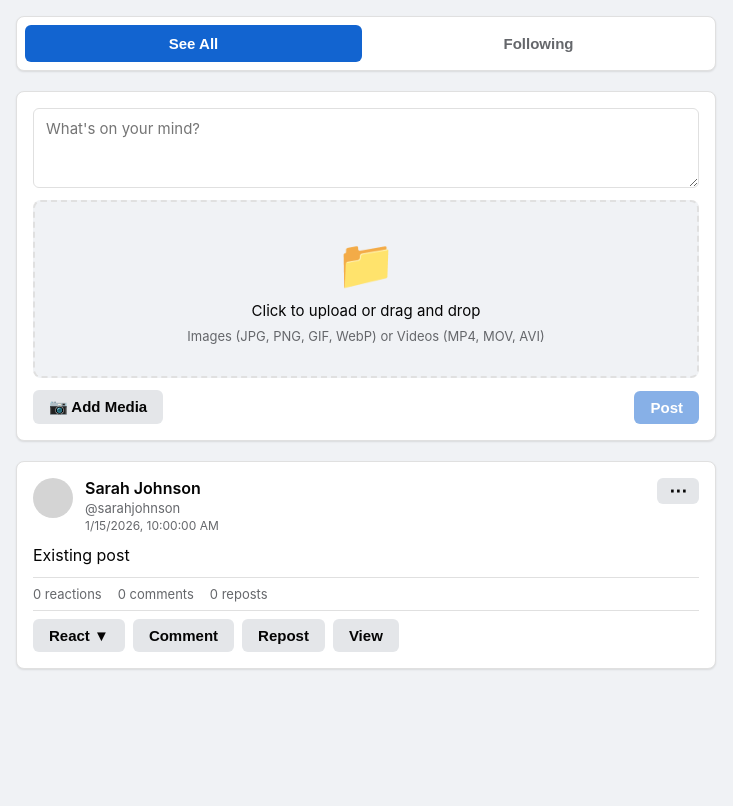
Feed Page › adds a newly created post to the top of the feed
The image size is (733, 806).
expect the text "Existing post" is shown: met, box 33,545 -> 130,565
Type "Brand new post" into the text box with placeholder "What's on your mind?" at x=366, y=148, box 33,108 -> 699,188
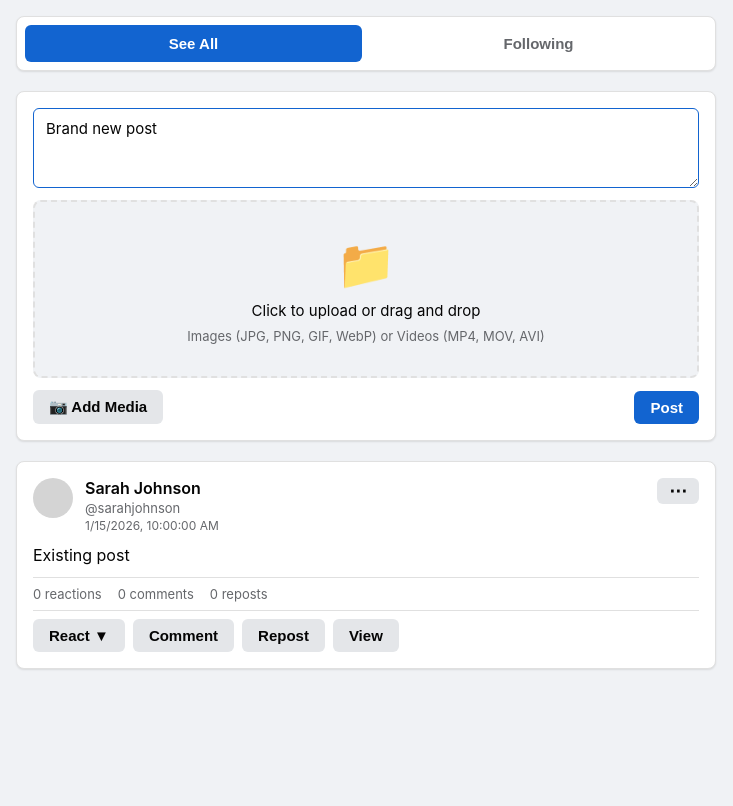
Click the button "Post" at x=667, y=407, box 634,390 -> 699,424
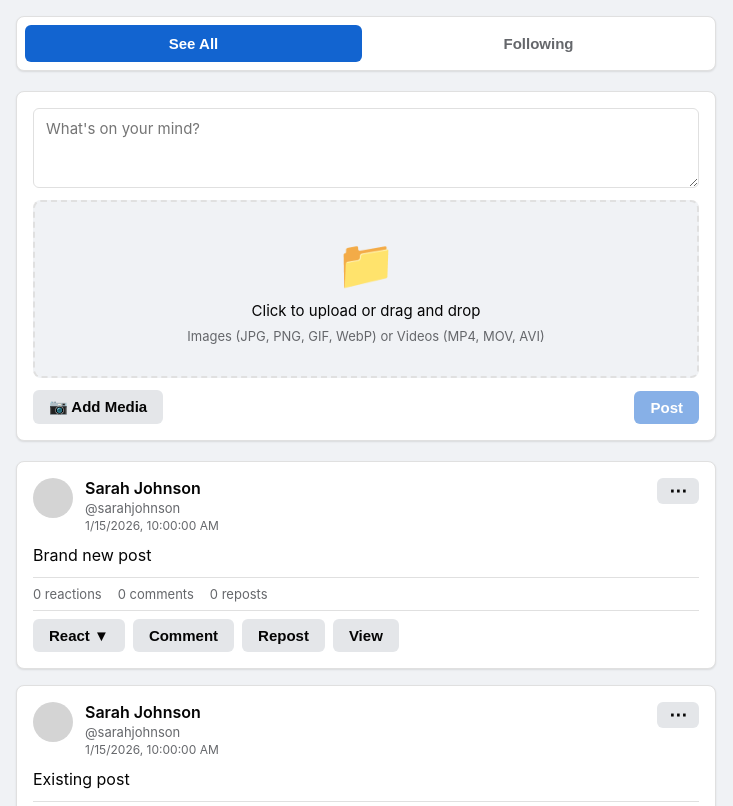
expect the text "Brand new post" is shown: met, box 33,545 -> 151,565
